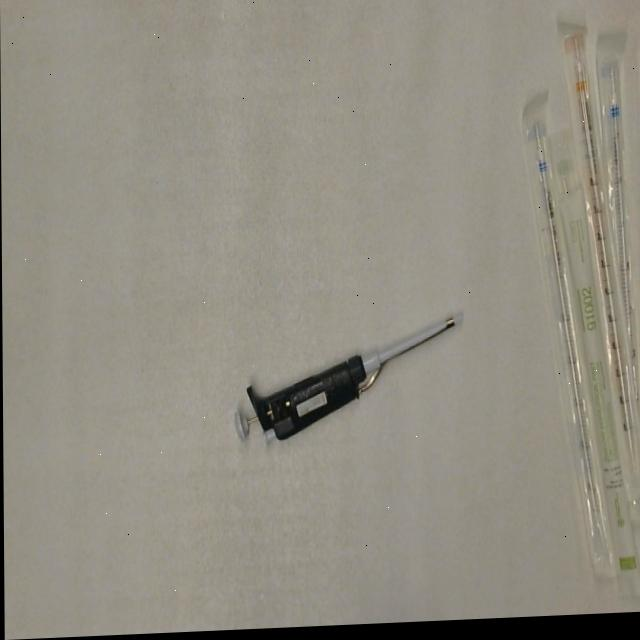Serelogical Pipet 10 mL: (557, 28, 640, 499)
Serelogical Pipet 2 mL: (550, 132, 640, 608)
Serelogical Pipet 5 mL: (520, 98, 616, 591), (593, 39, 640, 411)
Single Channel Pipettor: (227, 306, 468, 467)
